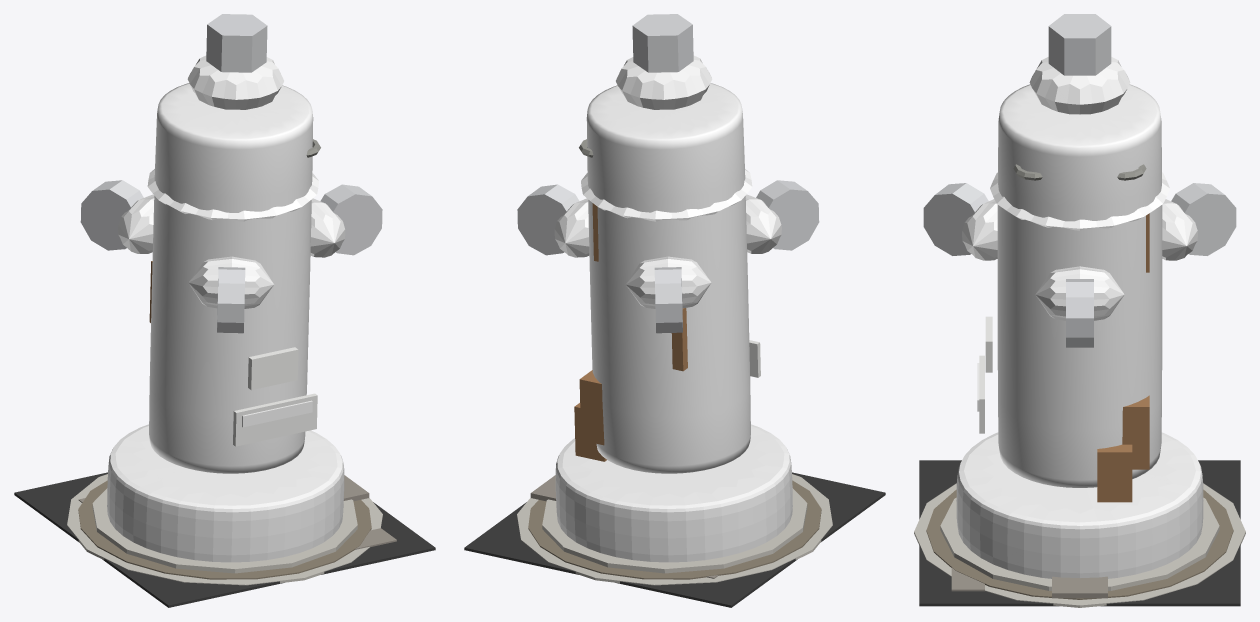
File: hm_prop_hydrant_v2.glb
3 views of the same model, side by side, from view 1: azimuth 30°, elevation 25°; view 2: azimuth 150°, elevation 25°; view 3: azimuth 270°, elevation 25° (orthographic). The views are drawn at different scales.
Visible parts, largest first — view 1: Hyd_Barrel, Hyd_Base, hm_prop_hydrant_v2_Shadow, Hyd_Salt, hm_prop_hydrant_v2_Dirt, Hyd_Top, Hyd_Nut, hm_prop_hydrant_v2_SaltRing, Hyd_NozCap_1, Hyd_NozCap_0, Hyd_Noz_2, hm_prop_hydrant_v2_AssetPlate (+6 smaller); view 2: Hyd_Barrel, Hyd_Base, hm_prop_hydrant_v2_Shadow, Hyd_Salt, hm_prop_hydrant_v2_Dirt, Hyd_Top, hm_prop_hydrant_v2_SaltRing, Hyd_Nut, Hyd_NozCap_2, Hyd_NozCap_0, Hyd_Noz_1, Hyd_NozCap_1 (+6 smaller); view 3: Hyd_Barrel, Hyd_Base, hm_prop_hydrant_v2_Shadow, hm_prop_hydrant_v2_Dirt, Hyd_Salt, hm_prop_hydrant_v2_SaltRing, Hyd_Top, Hyd_Nut, Hyd_NozCap_1, Hyd_NozCap_2, Hyd_Noz_0, Hyd_Rust (+9 smaller).
Part boxes in pixels (bbox=[...]): Hyd_Barrel: bbox=[149, 83, 313, 473]; Hyd_Base: bbox=[107, 424, 344, 562]; hm_prop_hydrant_v2_Shadow: bbox=[14, 472, 435, 607]; Hyd_Salt: bbox=[92, 488, 357, 573]; hm_prop_hydrant_v2_Dirt: bbox=[78, 480, 371, 579]; Hyd_Top: bbox=[187, 55, 283, 109]; Hyd_Nut: bbox=[206, 14, 267, 72]; hm_prop_hydrant_v2_SaltRing: bbox=[67, 474, 382, 585]; Hyd_NozCap_1: bbox=[80, 180, 143, 250]; Hyd_NozCap_0: bbox=[320, 184, 382, 255]; Hyd_Noz_2: bbox=[188, 256, 273, 308]; hm_prop_hydrant_v2_AssetPlate: bbox=[233, 393, 317, 446]; Hyd_Barrel: bbox=[586, 83, 750, 473]; Hyd_Base: bbox=[555, 424, 792, 562]; hm_prop_hydrant_v2_Shadow: bbox=[464, 472, 885, 607]; Hyd_Salt: bbox=[542, 488, 807, 573]; hm_prop_hydrant_v2_Dirt: bbox=[528, 480, 821, 579]; Hyd_Top: bbox=[616, 55, 712, 109]; hm_prop_hydrant_v2_SaltRing: bbox=[517, 474, 832, 585]; Hyd_Nut: bbox=[632, 14, 693, 72]; Hyd_NozCap_2: bbox=[756, 180, 819, 250]; Hyd_NozCap_0: bbox=[517, 184, 579, 255]; Hyd_Noz_1: bbox=[626, 256, 711, 308]; Hyd_NozCap_1: bbox=[654, 267, 682, 333]; Hyd_Barrel: bbox=[997, 84, 1162, 487]; Hyd_Base: bbox=[956, 432, 1203, 578]; hm_prop_hydrant_v2_Shadow: bbox=[919, 460, 1240, 606]; hm_prop_hydrant_v2_Dirt: bbox=[926, 489, 1233, 599]; Hyd_Salt: bbox=[940, 497, 1219, 590]; hm_prop_hydrant_v2_SaltRing: bbox=[914, 483, 1245, 607]; Hyd_Top: bbox=[1029, 57, 1130, 114]; Hyd_Nut: bbox=[1048, 14, 1111, 75]; Hyd_NozCap_1: bbox=[1171, 183, 1236, 255]; Hyd_NozCap_2: bbox=[923, 183, 988, 255]; Hyd_Noz_0: bbox=[1035, 266, 1124, 320]; Hyd_Rust: bbox=[1097, 444, 1132, 502].
Bounding box in the file's own units: 0.4972 × 0.8208 × 0.4752.
